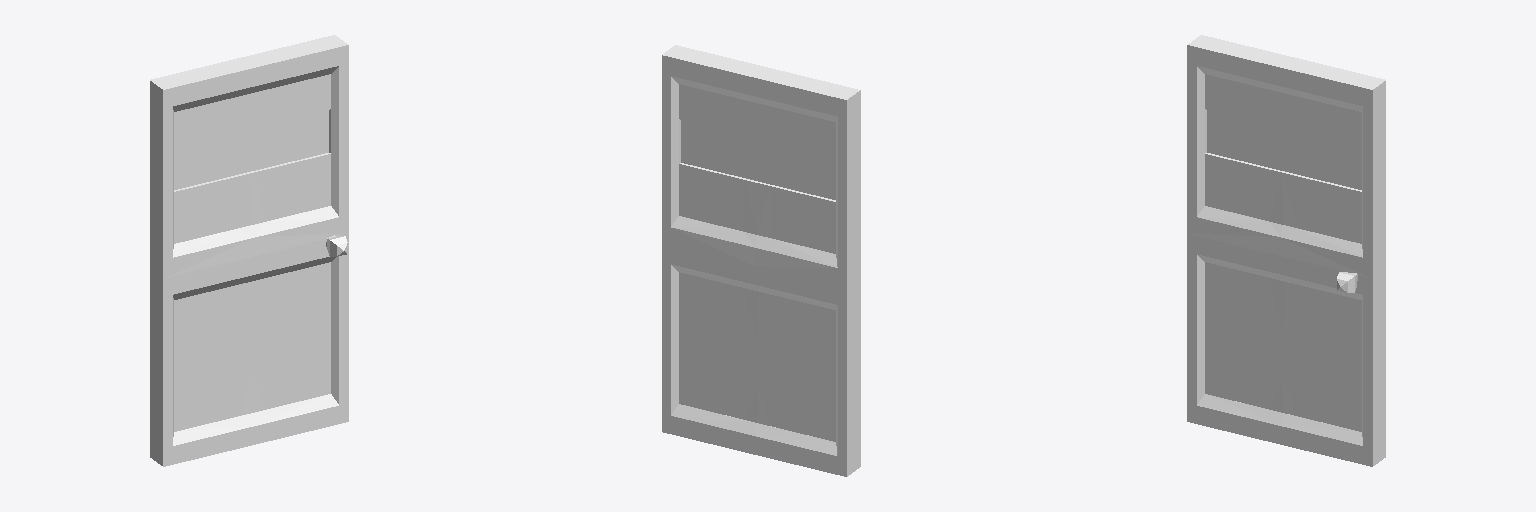
Rendered from door.obj.
The picture shows the model from 3 angles: view 1: azimuth 30°, elevation 25°; view 2: azimuth 150°, elevation 25°; view 3: azimuth 330°, elevation 25°; orthographic projection.
Visible parts, largest first — view 1: pSphere3; view 2: pSphere3; view 3: pSphere3.
Boxes of the visible parts, x1=… form: pSphere3: x1=150, y1=35, x2=348, y2=466; pSphere3: x1=662, y1=45, x2=860, y2=476; pSphere3: x1=1187, y1=35, x2=1385, y2=466.
Bounding box in the file's own units: 4.67 × 9.08 × 1.21.